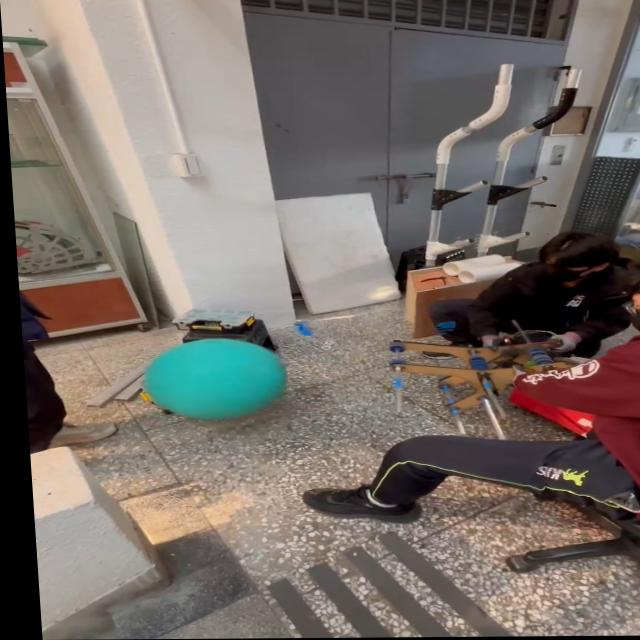ALGAE: (139, 337, 291, 422)
